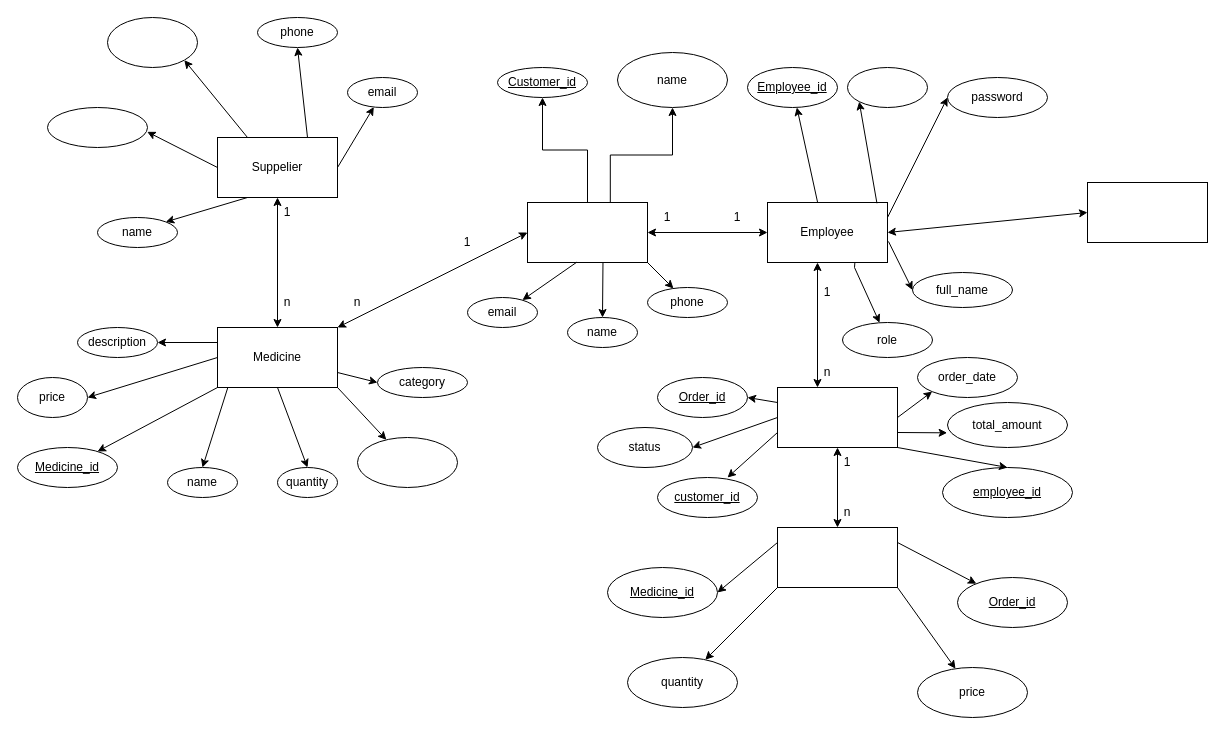
The diagram is 1225 pixels wide and 735 high, and some of its shapes have lost their labels. Each missing label, with the centre of its shape:
address: (x=97, y=127)
ChatLog: (x=1147, y=212)
Customer: (x=587, y=232)
expiry_date: (x=407, y=462)
Order: (x=837, y=417)
OrderDetail: (x=837, y=557)
Supplier_id: (x=152, y=42)
username: (x=887, y=87)
